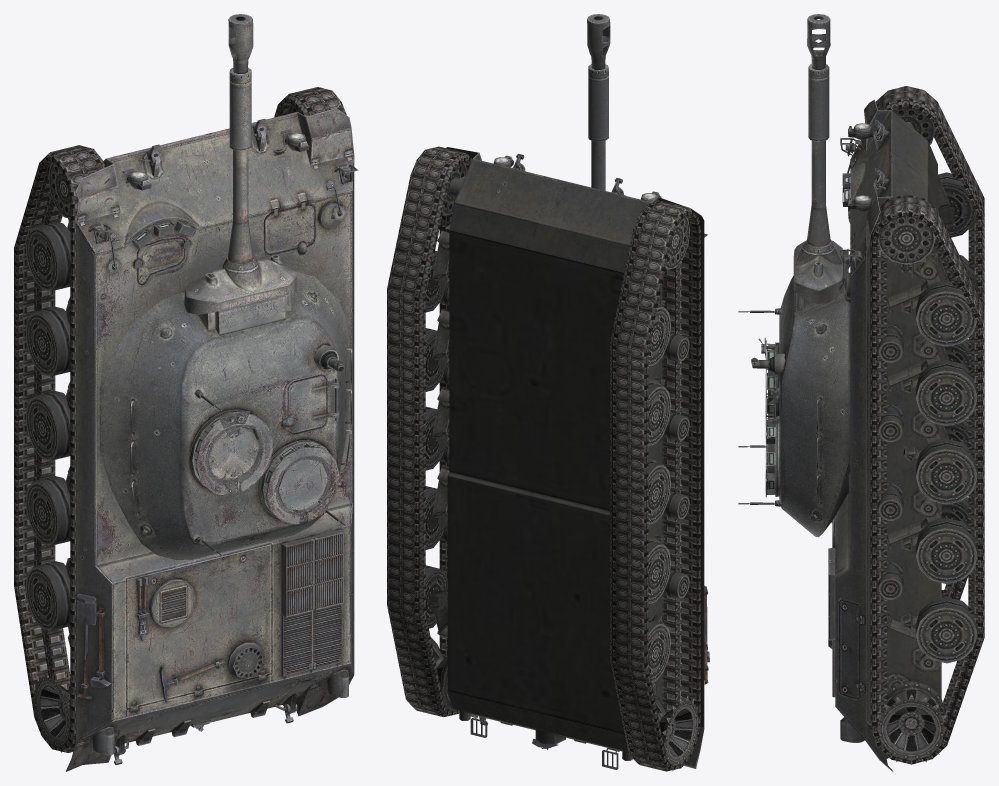
3 views of the same model, side by side, from view 1: azimuth 30°, elevation 25°; view 2: azimuth 150°, elevation 25°; view 3: azimuth 270°, elevation 25° (orthographic). The views are drawn at different scales.
Visible parts, largest first — view 1: hull, turret_01, chassis_track_L, gun_01, hull_hide_elements, chassis_wheel_L_02, chassis_wheel_L_03, chassis_wheel_L_05, chassis_wheel_L_04, chassis_wheel_L_06, chassis_wheel_L_07, chassis_track_R (+1 smaller); view 2: hull, chassis_track_L, chassis_track_R, gun_01, chassis_wheel_L_07, chassis_wheel_L_03, chassis_wheel_L_05, chassis_wheel_L_04, chassis_wheel_L_06, chassis_wheel_L_02, chassis_wheel_R_06, chassis_wheel_R_03 (+8 smaller); view 3: hull, turret_01, chassis_track_R, gun_01, chassis_track_L, chassis_wheel_R_07, chassis_wheel_R_04, chassis_wheel_R_05, chassis_wheel_R_03, chassis_wheel_R_06, chassis_wheel_R_02, chassis_wheel_R_01 (+10 smaller).
Boxes of the visible parts, box(x1,y1,x2,y2) form: hull: box(66, 108, 354, 771); turret_01: box(99, 271, 352, 559); chassis_track_L: box(14, 145, 105, 752); gun_01: box(184, 14, 296, 314); hull_hide_elements: box(76, 164, 358, 699); chassis_wheel_L_02: box(25, 221, 70, 291); chassis_wheel_L_03: box(25, 306, 70, 376); chassis_wheel_L_05: box(25, 476, 70, 545); chassis_wheel_L_04: box(25, 391, 70, 460); chassis_wheel_L_06: box(25, 561, 70, 630); chassis_wheel_L_07: box(33, 670, 74, 752); chassis_track_R: box(274, 87, 346, 117); hull: box(431, 147, 704, 769); chassis_track_L: box(610, 201, 700, 771); chassis_track_R: box(387, 146, 472, 717); gun_01: box(587, 14, 610, 190); chassis_wheel_L_07: box(653, 691, 698, 771); chassis_wheel_L_03: box(648, 382, 671, 445); chassis_wheel_L_05: box(648, 540, 671, 603); chassis_wheel_L_04: box(648, 461, 671, 524); chassis_wheel_L_06: box(648, 619, 671, 682); chassis_wheel_L_02: box(648, 305, 671, 366); chassis_wheel_R_06: box(425, 565, 447, 628); chassis_wheel_R_03: box(425, 328, 448, 391); hull: box(828, 99, 954, 771); turret_01: box(738, 249, 850, 537); chassis_track_R: box(870, 194, 984, 764); gun_01: box(793, 14, 843, 304); chassis_track_L: box(875, 86, 984, 600); chassis_wheel_R_07: box(875, 681, 947, 764); chassis_wheel_R_04: box(915, 438, 977, 504); chassis_wheel_R_05: box(915, 518, 977, 583); chassis_wheel_R_03: box(915, 360, 977, 426); chassis_wheel_R_06: box(915, 597, 977, 663); chassis_wheel_R_02: box(915, 281, 976, 346); chassis_wheel_R_01: box(878, 216, 935, 264).
Bounding box in the file's own units: 3.02 × 7.74 × 2.47.
Materials: 2 (2 with a texture image).
